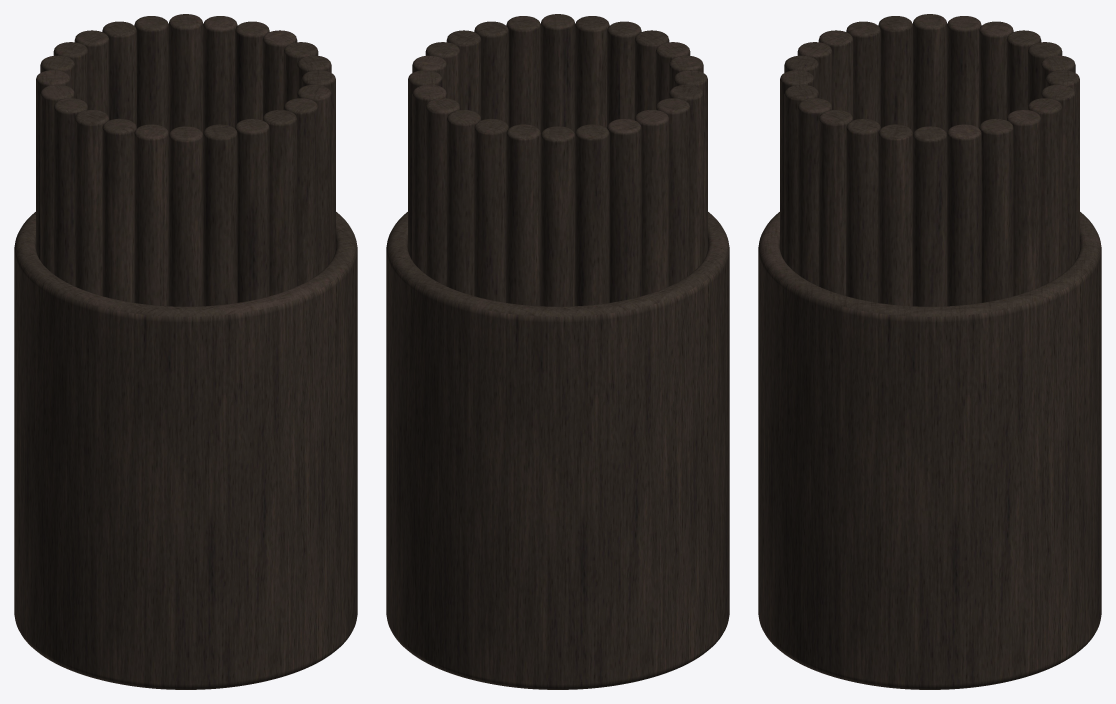
Rendered from queen-black-hd.glb.
3 renders of one model, left to right at view 1: azimuth 30°, elevation 25°; view 2: azimuth 150°, elevation 25°; view 3: azimuth 270°, elevation 25°, orthographic.
Visible parts, largest first — view 1: Cylindra_Dáma_černý; view 2: Cylindra_Dáma_černý; view 3: Cylindra_Dáma_černý.
Boxes of the visible parts, left/top/right/bottom form: Cylindra_Dáma_černý: left=14, top=14, right=357, bottom=689; Cylindra_Dáma_černý: left=386, top=14, right=729, bottom=689; Cylindra_Dáma_černý: left=758, top=14, right=1101, bottom=689.
Size of the model in its own units: 0.5715 by 1 by 0.5715.
2 materials, 2 textured.
